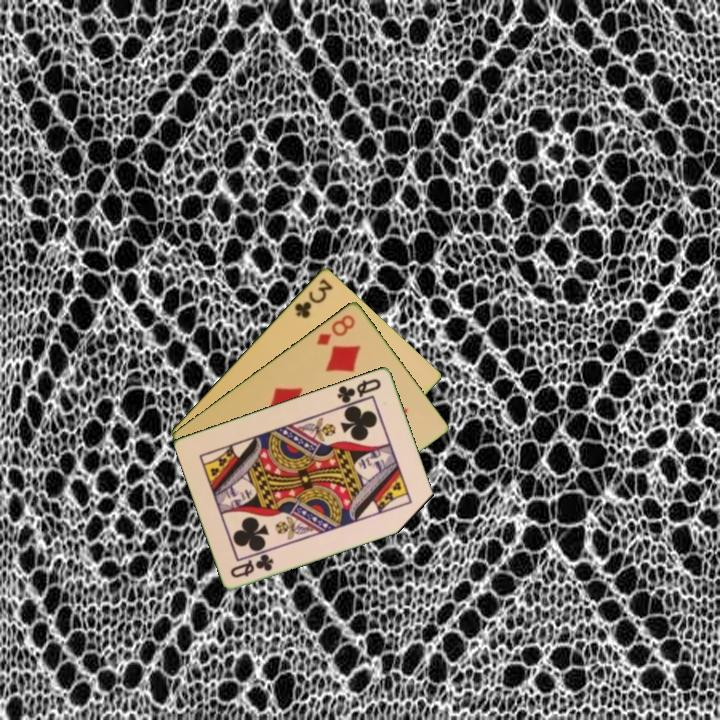3c: (291, 274, 336, 321)
8d: (313, 311, 358, 348)
Qc: (333, 375, 384, 406), (227, 550, 277, 580)
